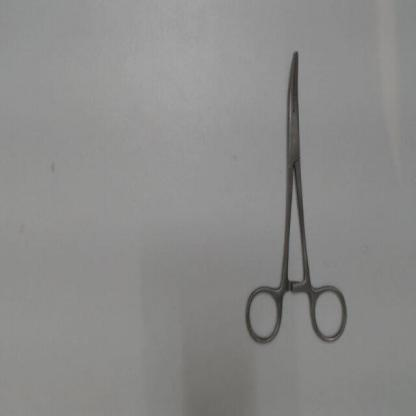Crile Artery Forceps: (239, 42, 356, 356)
